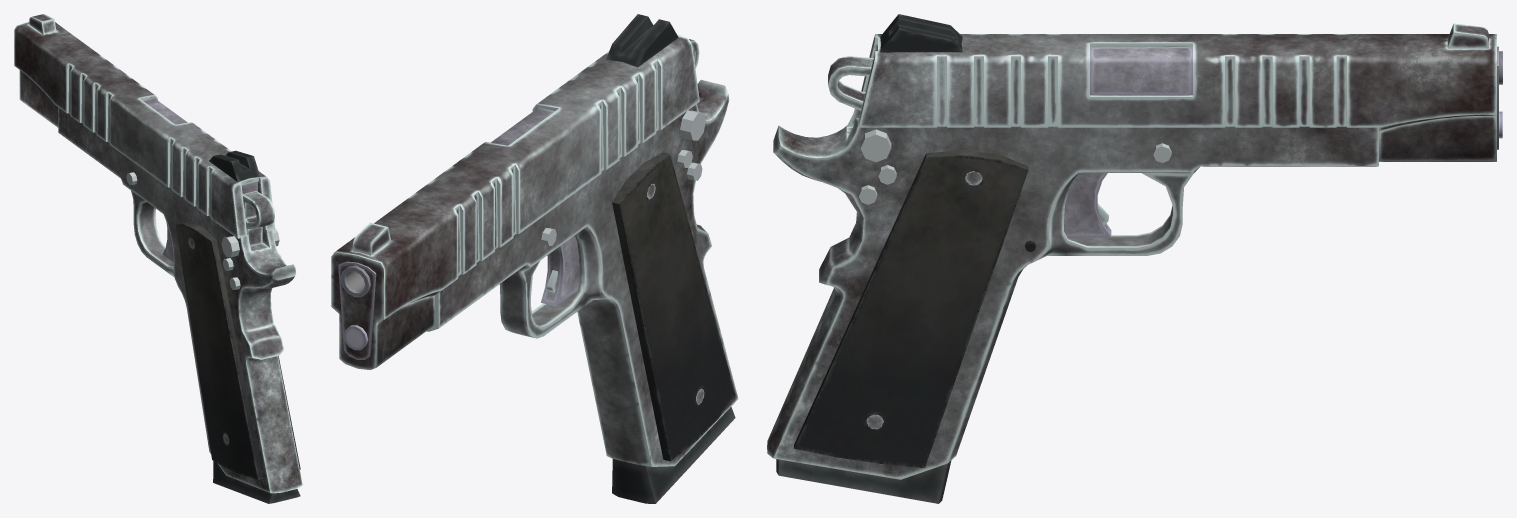
File: pistol.glb
The picture shows the model from 3 angles, left to right: view 1: azimuth 30°, elevation 25°; view 2: azimuth 150°, elevation 25°; view 3: azimuth 270°, elevation 25°; orthographic projection. The views are drawn at different scales.
Parts seen in each view (by area): view 1: Pistol_Frame; view 2: Pistol_Frame; view 3: Pistol_Frame.
Part boxes in pixels (x1,y1,x2,y2): Pistol_Frame: (14,14,302,503); Pistol_Frame: (331,14,738,503); Pistol_Frame: (767,14,1502,503).
Bounding box in the file's own units: 0.0264 × 0.169 × 0.2388.
Materials: 1 (1 with a texture image).
